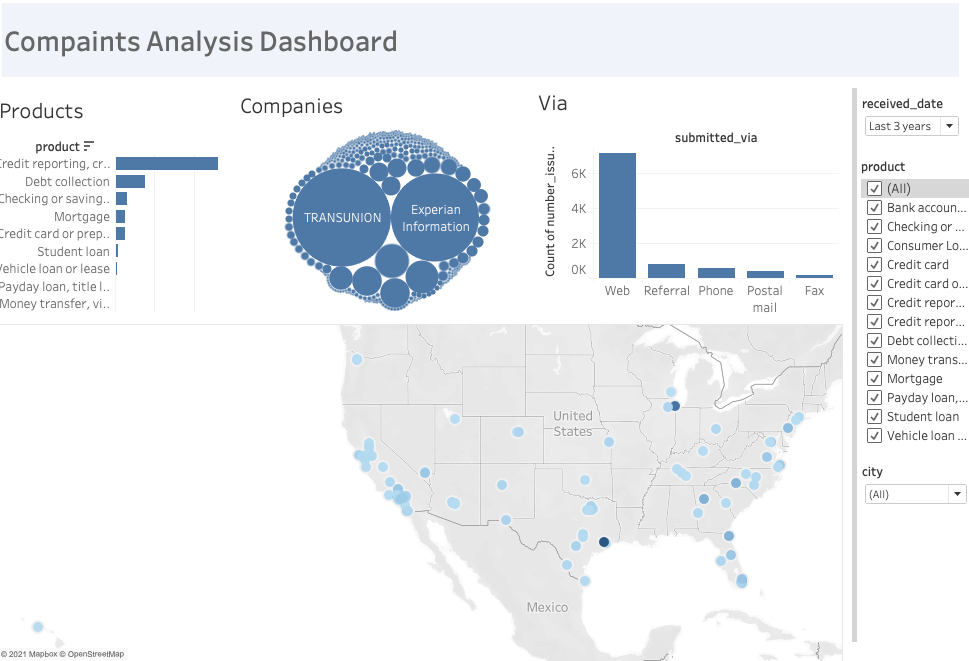

The page's visual inventory and layout, read from the dashboard file:
{"tool":"tableau","page":{"name":"Dashboard","canvas":[1000,800],"ordinal":0},"visuals":[{"type":"worksheet","box":[22,14,957,74]},{"type":"worksheet","title":"Via","mark":"Automatic","rows":["number_issues"],"cols":["submitted_via"],"box":[554,95,305,234]},{"type":"worksheet","title":"Companies","mark":"Circle","box":[256,98,303,224]},{"type":"worksheet","box":[872,99,5,554]},{"type":"worksheet","title":"Products","mark":"Automatic","rows":["product"],"cols":["number_issues"],"box":[15,103,228,220]},{"type":"worksheet","title":"Products","mark":"Automatic","rows":["product"],"cols":["number_issues"],"param":"[federated.0z05adm023o1q513ri0200cq2m4z].[none:received_date:qk]","box":[882,106,100,61]},{"type":"worksheet","title":"Products","mark":"Automatic","rows":["product"],"cols":["number_issues"],"param":"[federated.0z05adm023o1q513ri0200cq2m4z].[none:product:nk]","box":[881,169,114,290]},{"type":"worksheet","title":"Geog","mark":"Automatic","box":[15,335,848,339]}]}

Visuals, with their boxes on the page's 1000x800 design canvas (x1, y1, x2, y2). These are canvas units, not pixel positions in the 969x661 screenshot, which may show the page scaled, cropped or inside an application window:
worksheet: (22, 14, 979, 88)
"Via" worksheet: (554, 95, 859, 329)
"Companies" worksheet (Circle marks): (256, 98, 559, 322)
worksheet: (872, 99, 877, 653)
"Products" worksheet: (15, 103, 243, 323)
"Products" worksheet: (882, 106, 982, 167)
"Products" worksheet: (881, 169, 995, 459)
"Geog" worksheet: (15, 335, 863, 674)
